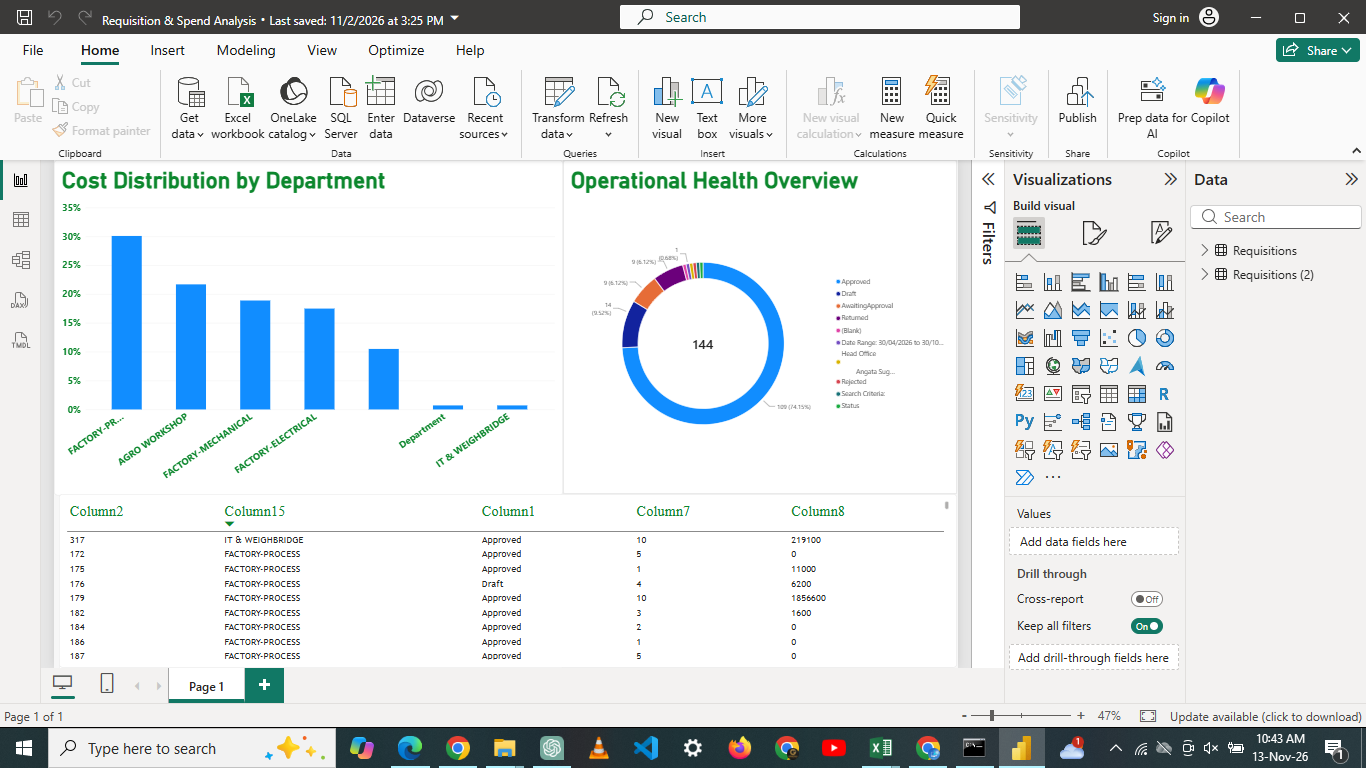

The dashboard page shown, as its layout file describes it:
{"tool":"powerbi","page":{"name":"Page 1","canvas":[1920,1080],"ordinal":0},"visuals":[{"type":"clusteredColumnChart","title":"Cost Distribution by Department","fields":{"Category":["Requisitions (2).Column15"],"Y":["Divide(CountNonNull(Requisitions (2).Column8), ScopedEval(CountNonNull(Requisitions (2).Column8), []))"]},"box":[0,0,1082.2,713.3],"z":0},{"type":"donutChart","title":"Operational Health Overview","fields":{"Category":["Requisitions (2).Column1"],"Y":["Count(Requisitions (2).Column2)"]},"box":[1082.2,0,837.8,711.1],"z":1000},{"type":"FlowVisual_C29F1DCC_81F5_4973_94AD_0517D44CC06A","box":[10.7,1059.8,1070.5,19.3],"z":2000},{"type":"tableEx","fields":{"Values":["Requisitions (2).Column2","Requisitions (2).Column15","Requisitions (2).Column1","Requisitions (2).Column7","Requisitions (2).Column8"]},"box":[11.1,711.1,1908.9,368.9],"z":3000}]}

Visuals, with their boxes on the page's 1920x1080 design canvas (x1, y1, x2, y2). These are canvas units, not pixel positions in the 1366x768 screenshot, which may show the page scaled, cropped or inside an application window:
"Cost Distribution by Department" clusteredColumnChart: bbox=(0, 0, 1082, 713)
"Operational Health Overview" donutChart: bbox=(1082, 0, 1920, 711)
FlowVisual_C29F1DCC_81F5_4973_94AD_0517D44CC06A: bbox=(11, 1060, 1081, 1079)
tableEx - Requisitions (2).Column2 x Requisitions (2).Column15: bbox=(11, 711, 1920, 1080)
